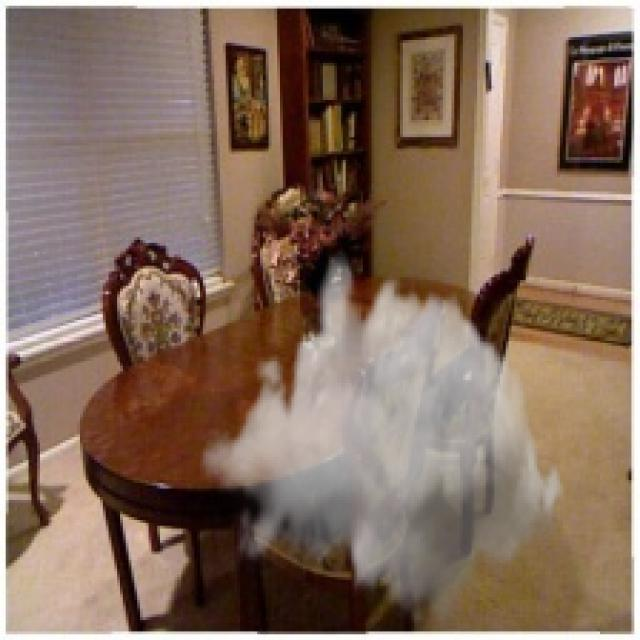Smoke: (200, 252, 569, 634)
